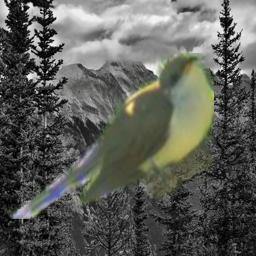Cuckoo: (8, 53, 214, 219)
